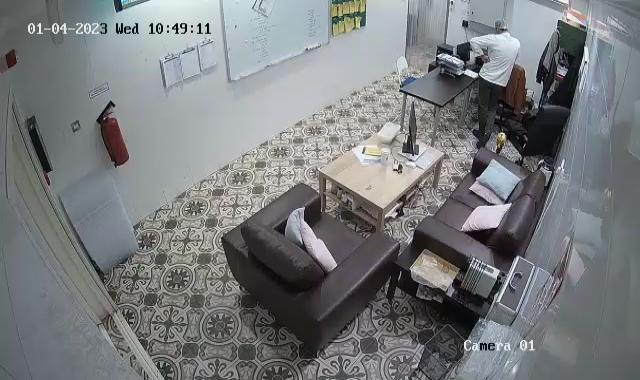hairnet: (493, 15, 512, 36)
